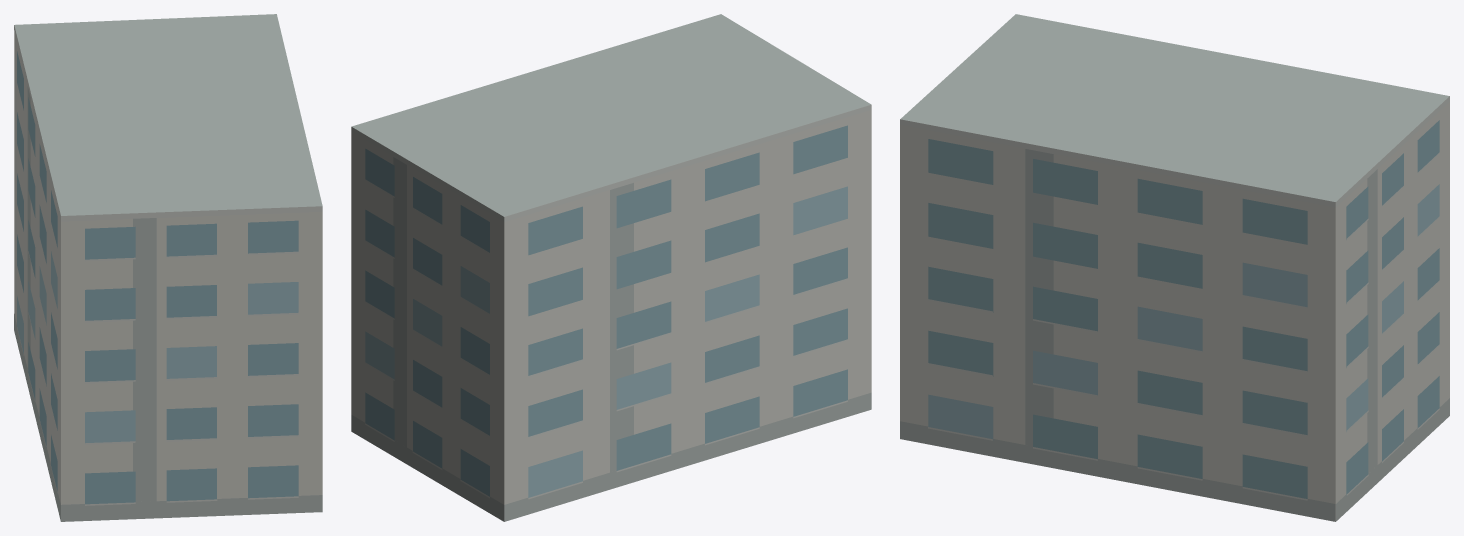
Rendered from survey-upis-32565569.glb.
3 renders of one model, left to right at view 1: azimuth 30°, elevation 25°; view 2: azimuth 150°, elevation 25°; view 3: azimuth 270°, elevation 25°, orthographic. The views are drawn at different scales.
Visible parts, largest first — view 1: survey-upis-32565569.tmp; view 2: survey-upis-32565569.tmp; view 3: survey-upis-32565569.tmp.
Part boxes in pixels (bbox=[...]): survey-upis-32565569.tmp: bbox=[14, 14, 322, 521]; survey-upis-32565569.tmp: bbox=[351, 14, 871, 521]; survey-upis-32565569.tmp: bbox=[900, 14, 1449, 521].
Bounding box in the file's own units: 17.3 × 13.7 × 21.36.
